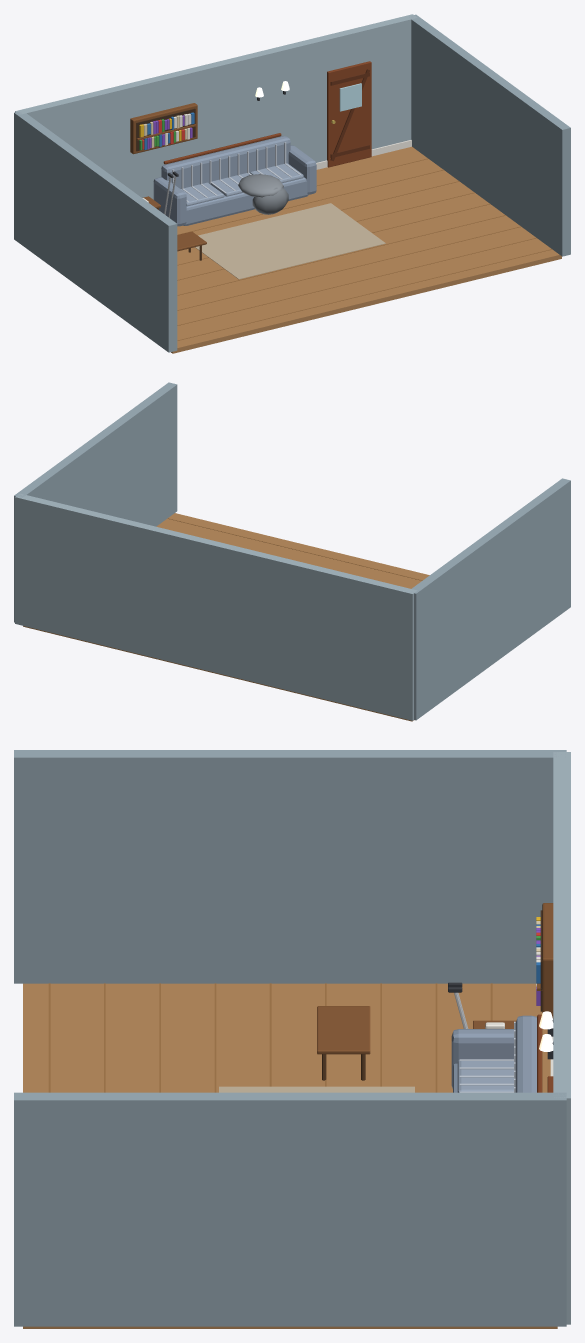
File: jackhome.glb
The picture shows the model from 3 angles, top to bottom: view 1: azimuth 30°, elevation 25°; view 2: azimuth 150°, elevation 25°; view 3: azimuth 270°, elevation 25°; orthographic projection. The views are drawn at different scales.
Visible parts, largest first — view 1: jh_room, jh_couch, jh_blanket, jh_table; view 2: jh_room; view 3: jh_room, jh_couch, jh_table.
Boxes of the visible parts, x1,y1,x2,y2 form: jh_room: (14,14,570,353); jh_couch: (153,133,316,226); jh_blanket: (238,174,288,214); jh_table: (177,231,206,260); jh_room: (14,382,570,721); jh_room: (14,750,570,1328); jh_couch: (451,1014,542,1092); jh_table: (317,1006,370,1080).
Size of the model in its own units: 9.3 by 2.9 by 6.25.
